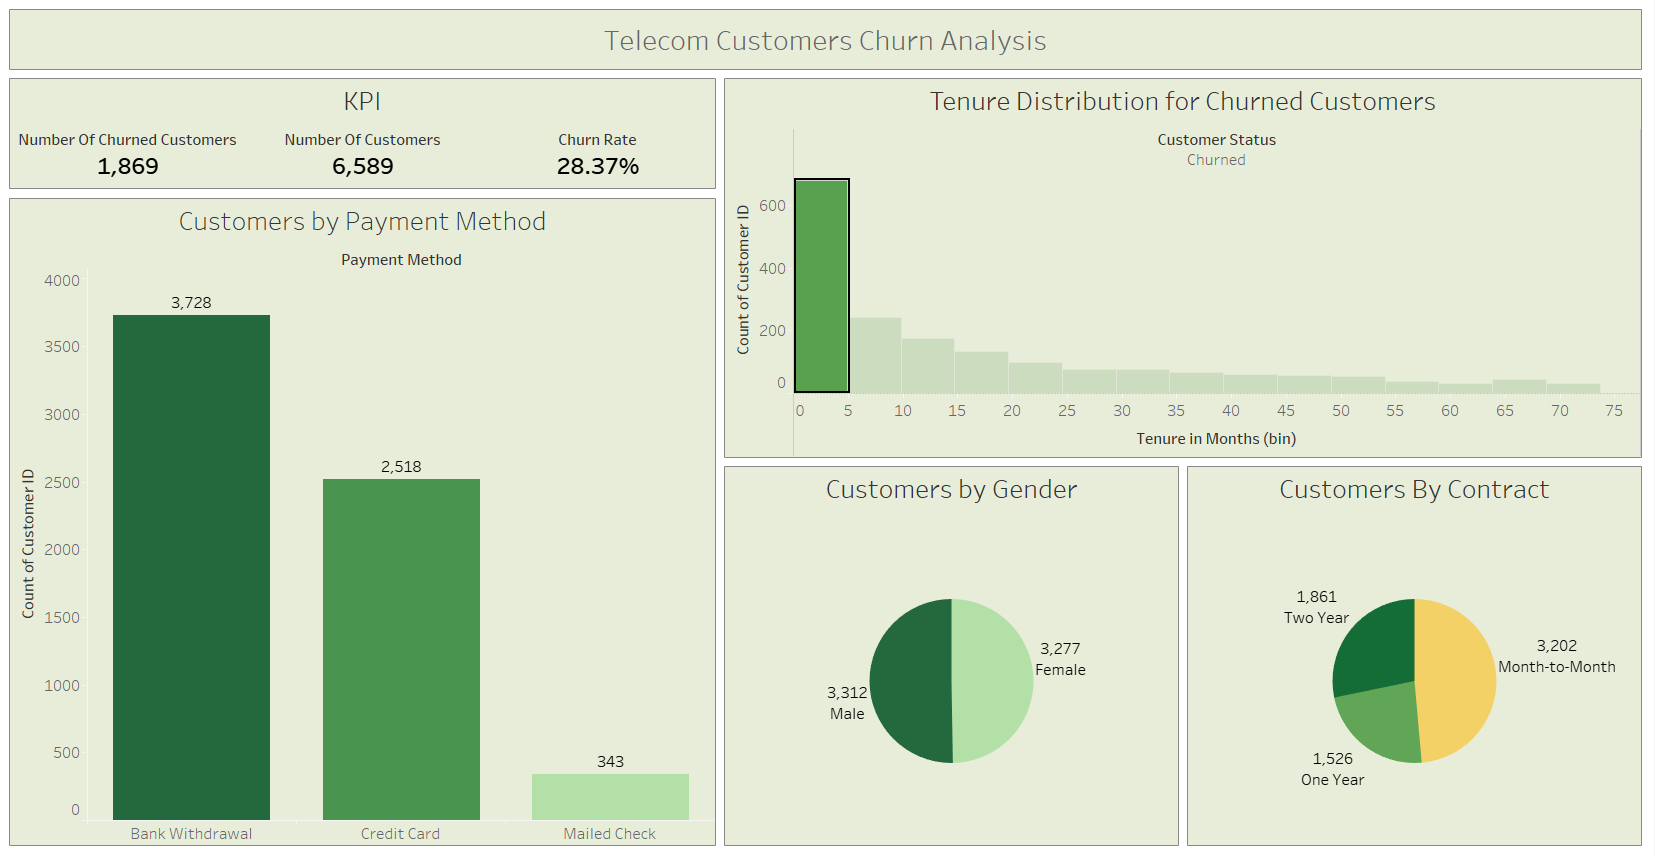

Layout of this report page (visuals, bound fields, positions):
{"tool":"tableau","page":{"name":"Dashboard 4","canvas":[1000,800],"ordinal":1},"visuals":[{"type":"image","param":"C:/Users/medai/Downloads/Frame 1 (4).png","box":[0,0,1000,800]},{"type":"text","box":[0,0,1000,91]},{"type":"dashboard-object","box":[514,5,200,28]},{"type":"dashboard-object","box":[714,5,200,28]},{"type":"filter","title":"Sheet 1","param":"[federated.0ijxbbm0trrphp1d6gkl50auaypp].[none:ProductCategory:nk]","box":[514,30,200,58]},{"type":"filter","title":"Sheet 1","param":"[federated.0ijxbbm0trrphp1d6gkl50auaypp].[none:Region:nk]","box":[714,30,200,58]},{"type":"dashboard-object","box":[914,55,24,24]},{"type":"worksheet","title":"Sheet 1","mark":"Bar","rows":["ProductCategory"],"cols":["Calculation_1009087848674123777","Calculation_1009087848674762754"],"box":[0,91,1000,665]},{"type":"blank","box":[0,756,32,32]},{"type":"text","box":[32,756,92,32]},{"type":"dashboard-object","box":[124,756,32,32]},{"type":"dashboard-object","box":[156,756,32,32]},{"type":"blank","box":[188,756,410,32]},{"type":"text","box":[598,756,402,32]},{"type":"blank","box":[0,788,1000,12]}]}

Visuals, with their boxes on the page's 1000x800 design canvas (x1, y1, x2, y2). These are canvas units, not pixel positions in the 1655x856 screenshot, which may show the page scaled, cropped or inside an application window:
image: [0, 0, 1000, 800]
text: [0, 0, 1000, 91]
dashboard-object: [514, 5, 714, 33]
dashboard-object: [714, 5, 914, 33]
"Sheet 1" filter: [514, 30, 714, 88]
"Sheet 1" filter: [714, 30, 914, 88]
dashboard-object: [914, 55, 938, 79]
"Sheet 1" worksheet (Bar marks): [0, 91, 1000, 756]
blank: [0, 756, 32, 788]
text: [32, 756, 124, 788]
dashboard-object: [124, 756, 156, 788]
dashboard-object: [156, 756, 188, 788]
blank: [188, 756, 598, 788]
text: [598, 756, 1000, 788]
blank: [0, 788, 1000, 800]
